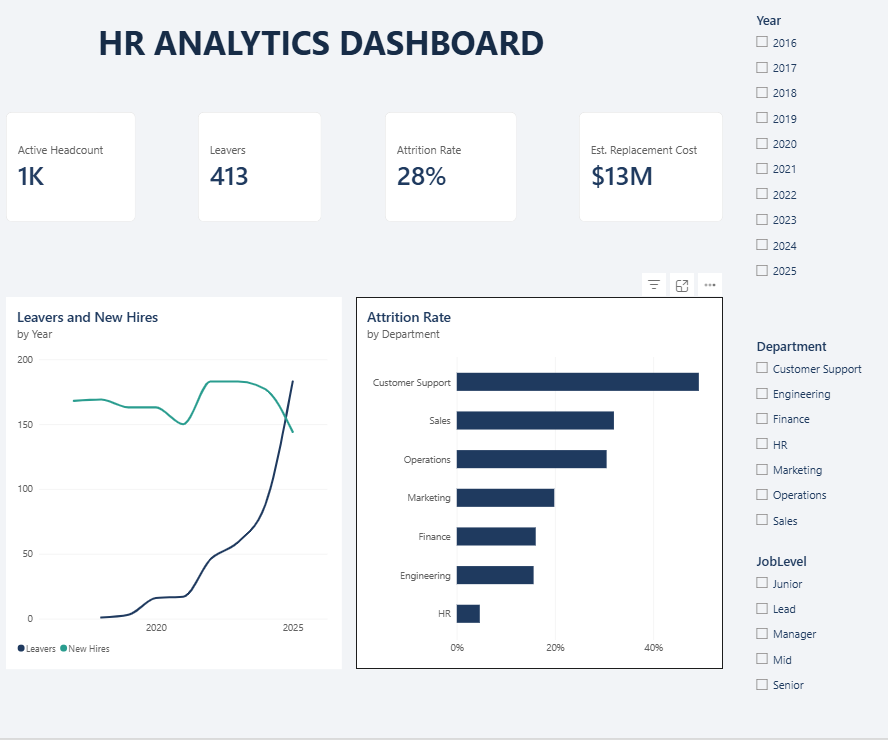

What the dashboard file says about the page in this screenshot:
{"tool":"powerbi","page":{"name":"Executive Overview","canvas":[1920,1080],"ordinal":0},"visuals":[{"type":"cardVisual","fields":{"Data":["DateTable.Active Headcount"]},"box":[170.7,166.3,189.7,160.5],"z":0},{"type":"cardVisual","fields":{"Data":["DateTable.Leavers"]},"box":[451.3,166.3,180.9,160.5],"z":1000},{"type":"cardVisual","fields":{"Data":["DateTable.Attrition Rate"]},"box":[723.2,166.3,192.6,160.5],"z":2000},{"type":"cardVisual","fields":{"Data":["DateTable.Est. Replacement Cost"]},"box":[1006.7,166.3,210.1,160.5],"z":3000},{"type":"lineChart","fields":{"Category":["DateTable.Year"],"Y":["DateTable.Leavers","DateTable.New Hires"]},"box":[170.7,436.2,490.2,542.7],"z":4000},{"type":"barChart","fields":{"Category":["departments.Department"],"Y":["DateTable.Attrition Rate"]},"box":[681.3,436.2,535.4,542.7],"z":5000},{"type":"slicer","fields":{"Values":["DateTable.Year"]},"box":[1257.6,19,215.9,434.8],"z":6000},{"type":"slicer","fields":{"Values":["departments.Department"]},"box":[1257.6,494.6,215.9,302],"z":7000},{"type":"slicer","fields":{"Values":["employees.JobLevel"]},"box":[1257.6,808.3,215.9,239.3],"z":8000},{"type":"textbox","box":[77.3,30.6,1105.9,150.3],"z":8001}]}

Visuals, with their boxes on the page's 1920x1080 design canvas (x1, y1, x2, y2). These are canvas units, not pixel positions in the 888x740 screenshot, which may show the page scaled, cropped or inside an application window:
cardVisual - DateTable.Active Headcount: 171:166:360:327
cardVisual - DateTable.Leavers: 451:166:632:327
cardVisual - DateTable.Attrition Rate: 723:166:916:327
cardVisual - DateTable.Est. Replacement Cost: 1007:166:1217:327
lineChart - DateTable.Year x DateTable.Leavers: 171:436:661:979
barChart - departments.Department x DateTable.Attrition Rate: 681:436:1217:979
slicer - DateTable.Year: 1258:19:1474:454
slicer - departments.Department: 1258:495:1474:797
slicer - employees.JobLevel: 1258:808:1474:1048
textbox: 77:31:1183:181
